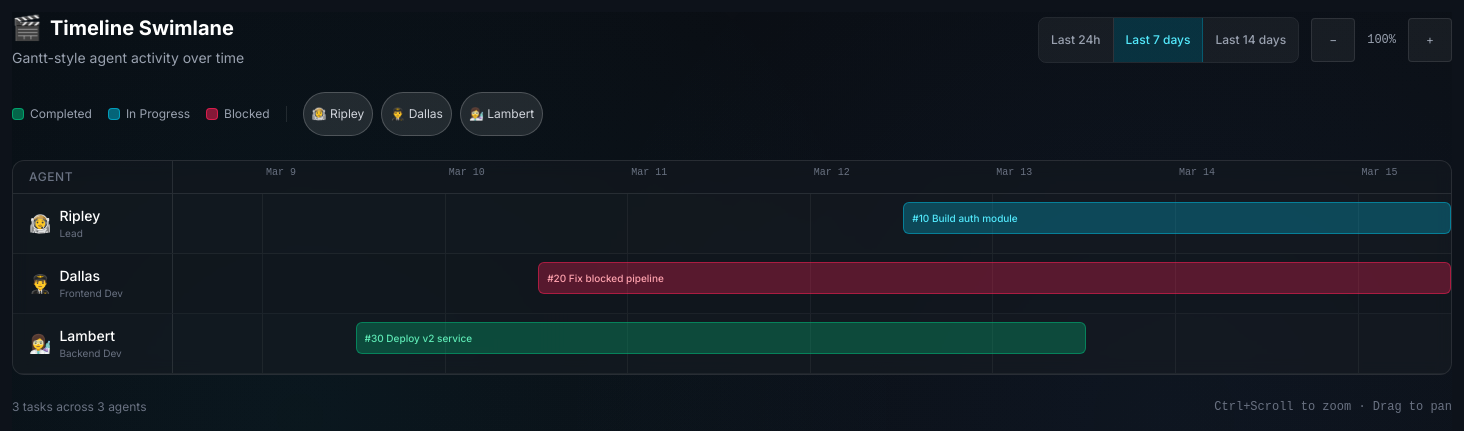
Test: TimelineSwimlane › hides agent swimlane when toggled off
The width and height of the screenshot is (1464, 431).
Step 1. Click the button "🧑‍🚀 Ripley" → (338, 114), box [303, 92, 373, 136]
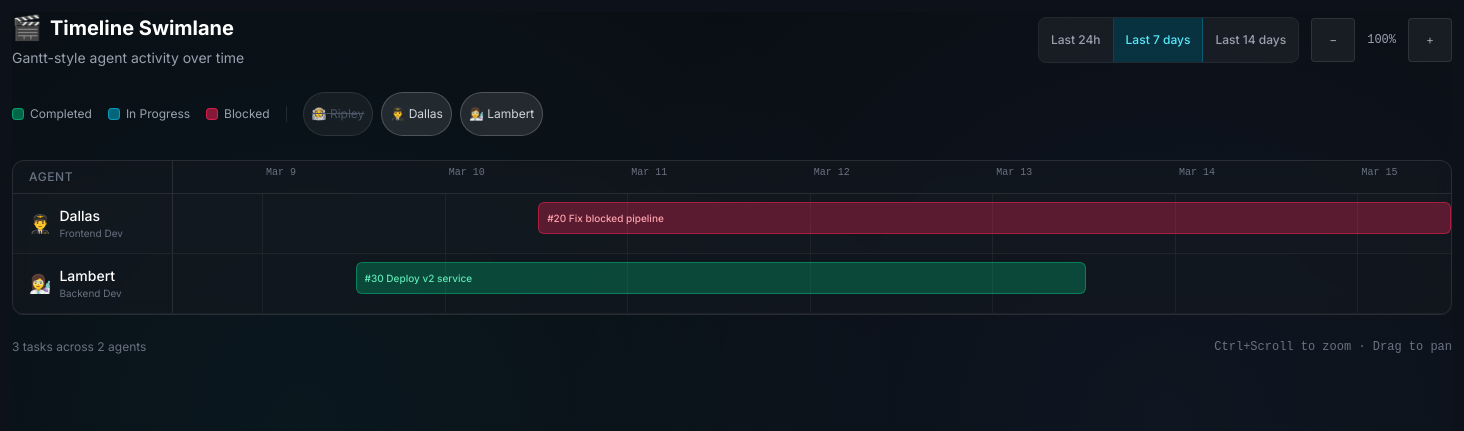
Result: the element with test id "swimlane-ripley" is gone
